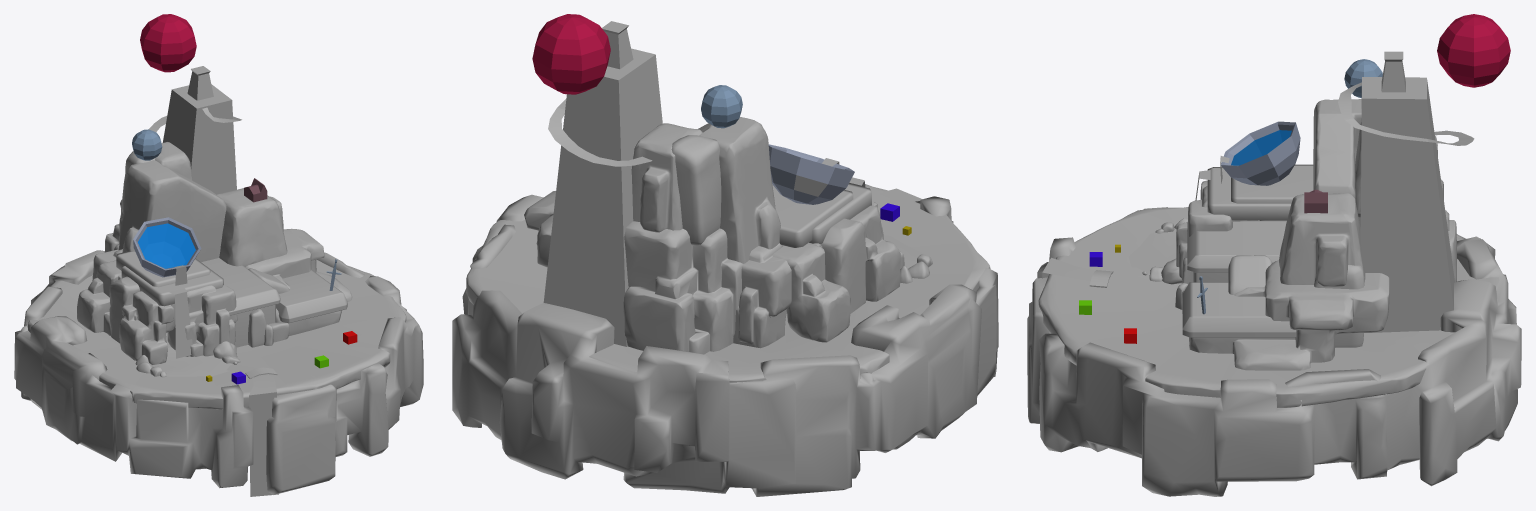
File: map_placeholder.fbx
3 views of the same model, side by side, from view 1: azimuth 30°, elevation 25°; view 2: azimuth 150°, elevation 25°; view 3: azimuth 270°, elevation 25° (orthographic). The views are drawn at different scales.
Visible parts, largest first — view 1: Earth_plane_bottom_planar, Earth_plane_top_planar, Rock_8_low2, Rock_17_low, Rock_9_low2, Rock_5_low2, Rock_7_low2, Rock_6_low3, Cup, The_Sun, Rocks_15_low2, Rock_15_low (+10 smaller); view 2: Earth_plane_bottom_planar, Rock_17_low, Earth_plane_top_planar, Rock_7_low4, Rock_8_low2, Rock_5_low2, The_Sun, Rock_6_low2, Rock_9_low3, Rock_7_low3, Rock_1_low4, Rock_15_low (+5 smaller); view 3: Earth_plane_bottom_planar, Earth_plane_top_planar, Rock_17_low, Rock_6_low3, Rock_9_low2, Rocks_15_low2, The_Sun, Rock_15_low, Rock_8_low2, Rock_15_low1, Cup, Rock_7_low2 (+8 smaller).
Part boxes in pixels (bbox=[...]): Earth_plane_bottom_planar: bbox=[14, 250, 423, 494]; Earth_plane_top_planar: bbox=[27, 259, 406, 409]; Rock_8_low2: bbox=[118, 160, 226, 262]; Rock_17_low: bbox=[162, 84, 236, 194]; Rock_9_low2: bbox=[216, 188, 287, 266]; Rock_5_low2: bbox=[109, 276, 175, 364]; Rock_7_low2: bbox=[167, 284, 237, 356]; Rock_6_low3: bbox=[245, 228, 352, 335]; Cup: bbox=[133, 217, 201, 277]; The_Sun: bbox=[140, 14, 196, 72]; Rocks_15_low2: bbox=[276, 269, 347, 323]; Rock_15_low: bbox=[116, 251, 223, 306]; Earth_plane_bottom_planar: bbox=[452, 187, 998, 496]; Rock_17_low: bbox=[543, 48, 662, 346]; Earth_plane_top_planar: bbox=[466, 184, 990, 382]; Rock_7_low4: bbox=[623, 221, 742, 354]; Rock_8_low2: bbox=[697, 117, 780, 263]; Rock_5_low2: bbox=[820, 201, 904, 313]; The_Sun: bbox=[532, 14, 610, 94]; Rock_6_low2: bbox=[772, 242, 850, 342]; Rock_9_low3: bbox=[631, 123, 702, 232]; Rock_7_low3: bbox=[733, 243, 791, 348]; Rock_1_low4: bbox=[671, 135, 721, 245]; Rock_15_low: bbox=[772, 183, 871, 247]; Earth_plane_bottom_planar: bbox=[1027, 207, 1521, 496]; Earth_plane_top_planar: bbox=[1038, 207, 1499, 407]; Rock_17_low: bbox=[1360, 77, 1454, 332]; Rock_6_low3: bbox=[1189, 260, 1389, 370]; Rock_9_low2: bbox=[1279, 193, 1365, 286]; Rocks_15_low2: bbox=[1182, 282, 1296, 337]; The_Sun: bbox=[1437, 14, 1510, 87]; Rock_15_low: bbox=[1207, 164, 1313, 220]; Rock_8_low2: bbox=[1313, 99, 1361, 200]; Rock_15_low1: bbox=[1187, 221, 1286, 272]; Cup: bbox=[1221, 121, 1300, 185]; Rock_7_low2: bbox=[1176, 186, 1247, 281].
Size of the model in its own units: 40.16 by 38.95 by 41.33.
